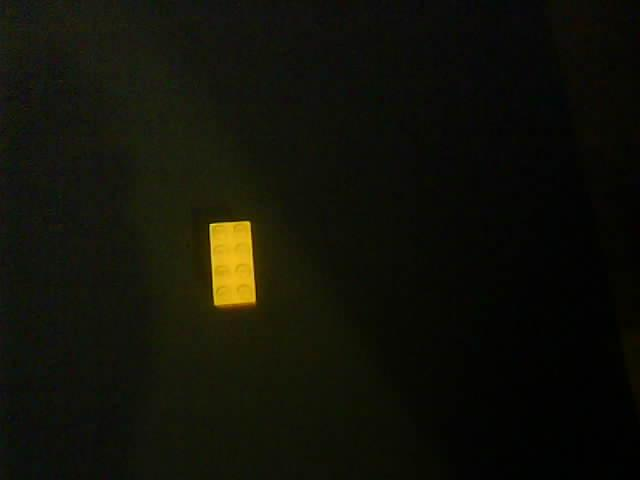lego: (208, 220, 257, 311)
